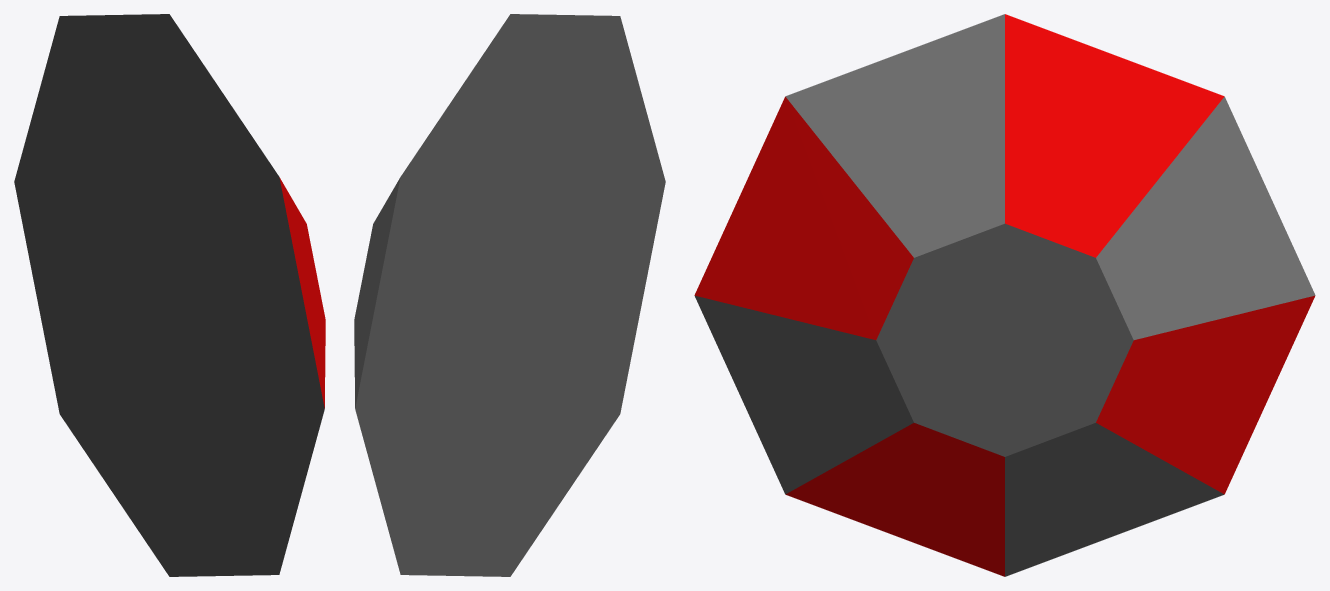
File: thargoid.obj
3 views of the same model, side by side, from view 1: azimuth 30°, elevation 25°; view 2: azimuth 150°, elevation 25°; view 3: azimuth 270°, elevation 25° (orthographic).
Size of the model in its own units: 56 by 328 by 328.
